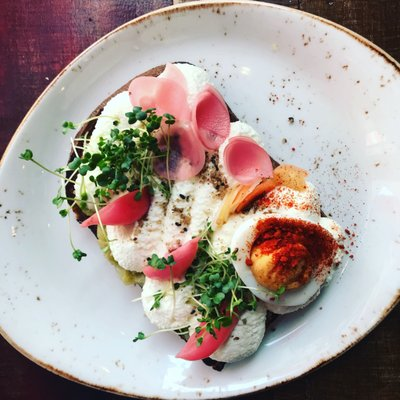sushi: (0, 1, 390, 386)
